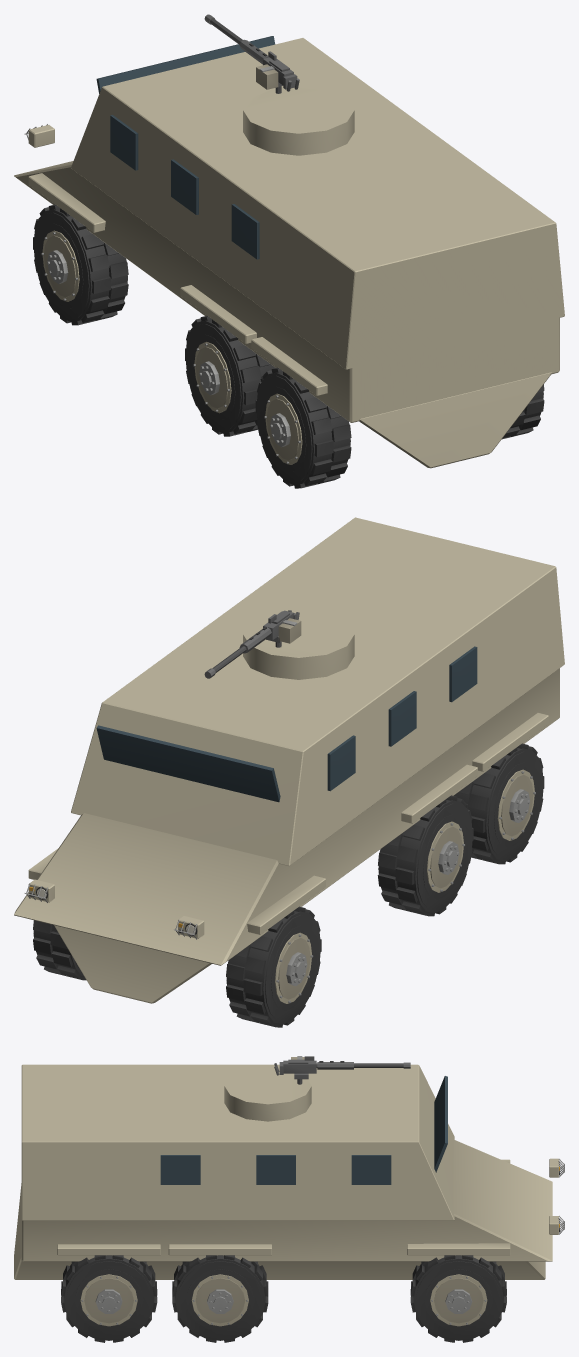
The model's file is rus_mrap_vpk.glb.
The picture shows the model from 3 angles, top to bottom: view 1: azimuth 30°, elevation 25°; view 2: azimuth 150°, elevation 25°; view 3: azimuth 270°, elevation 25°; orthographic projection. The views are drawn at different scales.
Visible parts, largest first — view 1: body, wheel_4, wheel_0, wheel_2, turret, barrel, wheel_5; view 2: body, wheel_2, wheel_0, wheel_4, turret, wheel_1, barrel; view 3: body, wheel_3, wheel_1, wheel_5, turret, barrel.
Part boxes in pixels (box(x1,y1,x2,y2)): body: box(14, 36, 564, 468); wheel_4: box(255, 367, 351, 488); wheel_0: box(33, 204, 128, 325); wheel_2: box(185, 316, 275, 436); turret: box(243, 86, 354, 155); barrel: box(204, 14, 299, 93); wheel_5: box(502, 384, 544, 439); body: box(14, 517, 564, 1003); wheel_2: box(377, 795, 473, 916); wheel_0: box(226, 906, 321, 1027); wheel_4: box(453, 743, 544, 864); turret: box(243, 611, 354, 679); wheel_1: box(33, 920, 86, 980); barrel: box(204, 610, 301, 678); body: box(14, 1064, 564, 1279); wheel_3: box(172, 1255, 268, 1342); wheel_1: box(410, 1255, 506, 1342); wheel_5: box(61, 1255, 157, 1342); turret: box(224, 1067, 311, 1121); barrel: box(274, 1056, 410, 1084).
Bounding box in the file's own units: 2.82 × 3.37 × 6.93.
